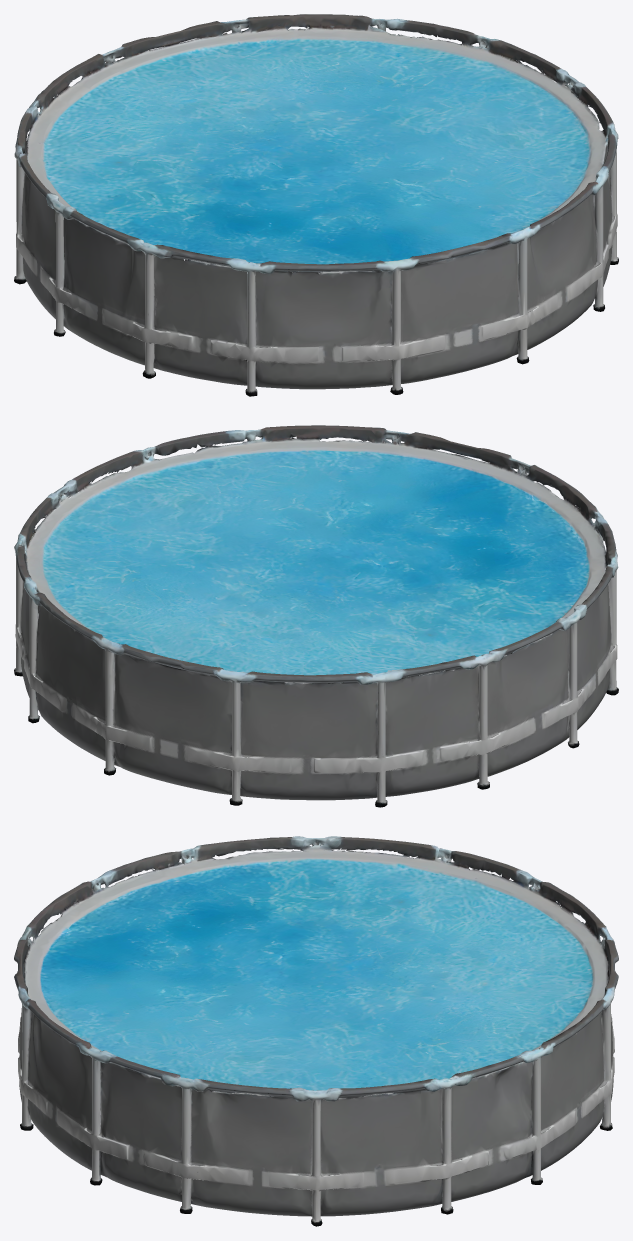
File: Bazin Cadru Ultra Frame 488x122cm, 549x132cm, Ultra XTR Frame 732x132cm.glb
3 views of the same model, one above another, from view 1: azimuth 30°, elevation 25°; view 2: azimuth 150°, elevation 25°; view 3: azimuth 270°, elevation 25° (orthographic).
Visible parts, largest first — view 1: tripo_node_26efbca7-5d06-4939-8fea-2ca76147215e; view 2: tripo_node_26efbca7-5d06-4939-8fea-2ca76147215e; view 3: tripo_node_26efbca7-5d06-4939-8fea-2ca76147215e.
Boxes of the visible parts, bbox=[...] form: tripo_node_26efbca7-5d06-4939-8fea-2ca76147215e: bbox=[14, 14, 618, 396]; tripo_node_26efbca7-5d06-4939-8fea-2ca76147215e: bbox=[14, 425, 618, 807]; tripo_node_26efbca7-5d06-4939-8fea-2ca76147215e: bbox=[14, 836, 618, 1226].
Bounding box in the file's own units: 1 × 0.242 × 0.9864.
1 material, 1 textured.
